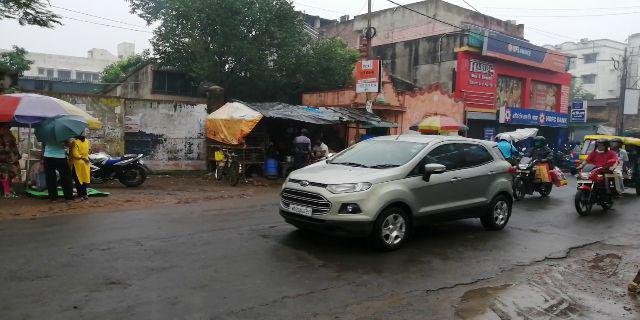Car: (277, 140, 518, 247)
Motorbike: (571, 137, 620, 218), (512, 135, 558, 199)
